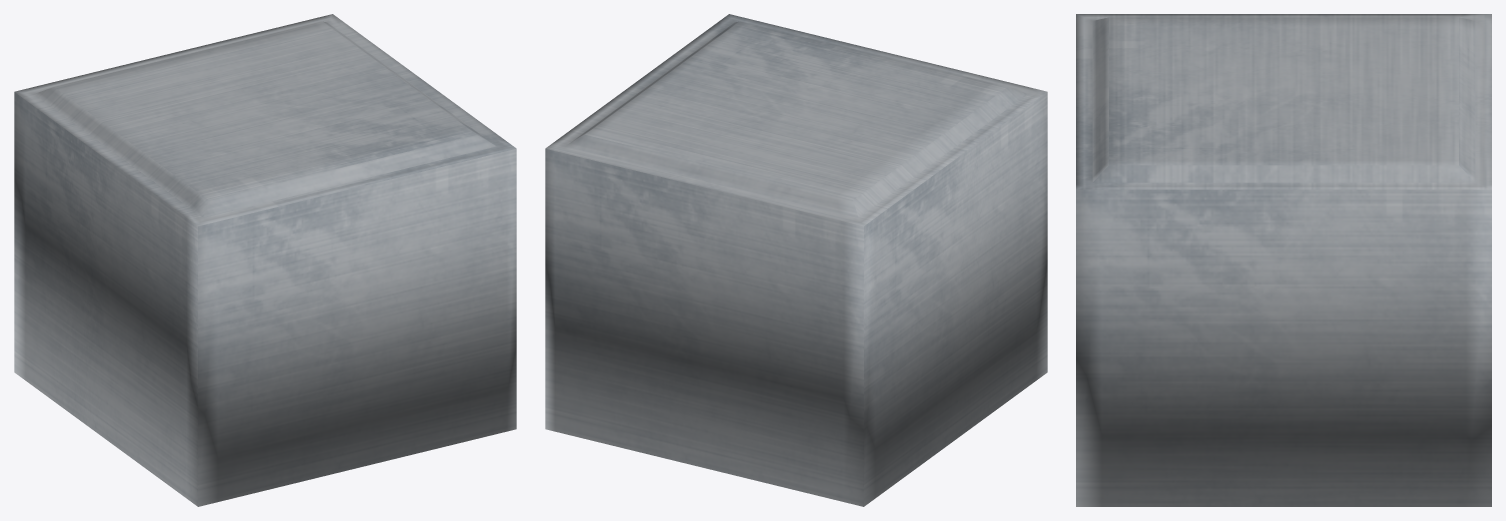
Rendered from MOSFET-Type-0.obj.
3 views of the same model, side by side, from view 1: azimuth 30°, elevation 25°; view 2: azimuth 150°, elevation 25°; view 3: azimuth 270°, elevation 25° (orthographic). The views are drawn at different scales.
Parts seen in each view (by area): view 1: MOSFET-Type-0; view 2: MOSFET-Type-0; view 3: MOSFET-Type-0.
Boxes of the visible parts, box(x1,y1,x2,y2) form: MOSFET-Type-0: box(14, 14, 516, 506); MOSFET-Type-0: box(545, 14, 1047, 506); MOSFET-Type-0: box(1076, 14, 1491, 506).
Bounding box in the file's own units: 0.1783 × 0.155 × 0.1783.
